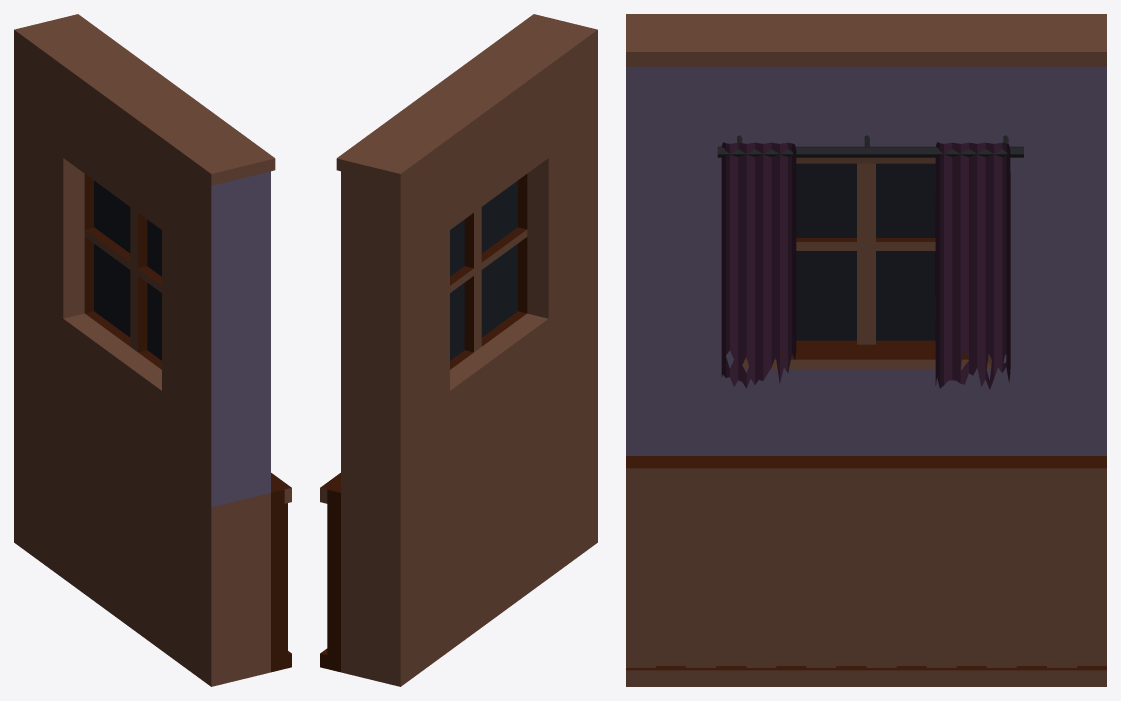
Rendered from Pentacles_Wall_Window_WithCurtain.fbx.
3 views of the same model, side by side, from view 1: azimuth 30°, elevation 25°; view 2: azimuth 150°, elevation 25°; view 3: azimuth 270°, elevation 25° (orthographic). The views are drawn at different scales.
Visible parts, largest first — view 1: Wall Basic Fenster, Fenster einzeln; view 2: Wall Basic Fenster, Fenster einzeln; view 3: Wall Basic Fenster, curtain holes L, Fenster einzeln, GardinenStange.
Boxes of the visible parts, x1=… form: Wall Basic Fenster: x1=14, y1=14, x2=291, y2=686; Fenster einzeln: x1=94, y1=180, x2=161, y2=360; Wall Basic Fenster: x1=320, y1=14, x2=597, y2=686; Fenster einzeln: x1=450, y1=180, x2=517, y2=360; Wall Basic Fenster: x1=626, y1=14, x2=1106, y2=686; curtain holes L: x1=721, y1=142, x2=1010, y2=389; Fenster einzeln: x1=796, y1=163, x2=935, y2=340; GardinenStange: x1=717, y1=135, x2=1023, y2=157.
Bounding box in the file's own units: 109 × 597 × 416.
